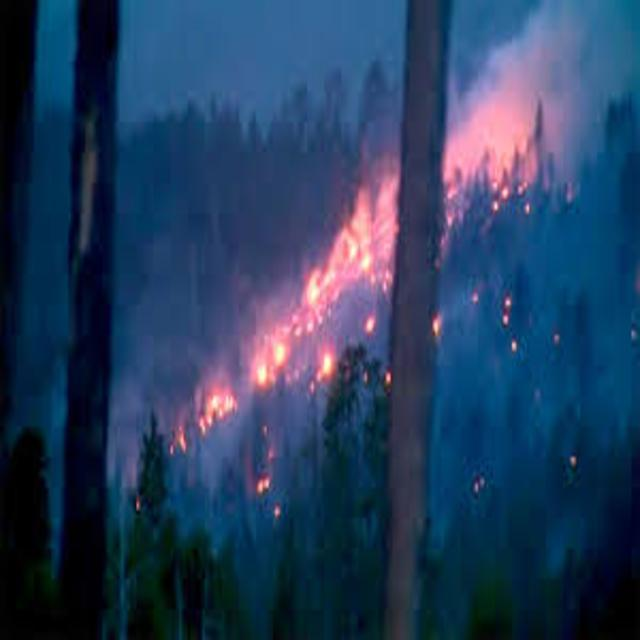Fire: (301, 168, 390, 326), (159, 356, 256, 470), (252, 294, 346, 402)
Smoke: (480, 9, 577, 188)
